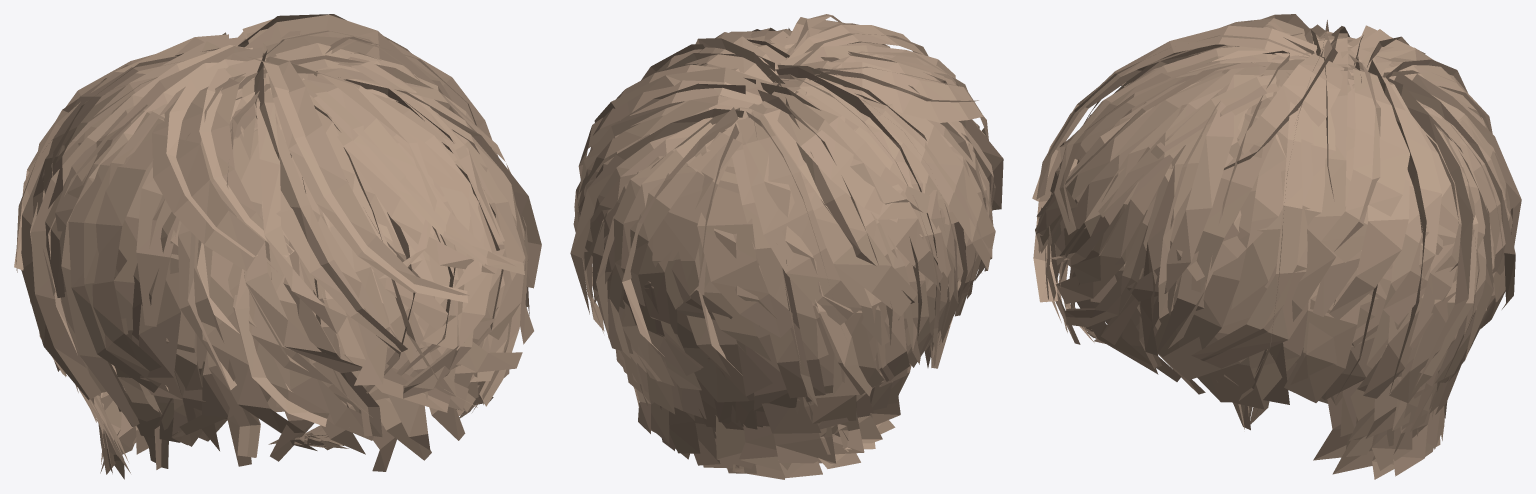
File: male_hair_13_lod1.glb
3 views of the same model, side by side, from view 1: azimuth 30°, elevation 25°; view 2: azimuth 150°, elevation 25°; view 3: azimuth 270°, elevation 25° (orthographic). The views are drawn at different scales.
Visible parts, largest first — view 1: hair_13; view 2: hair_13; view 3: hair_13.
Part boxes in pixels (left/top/right/bottom): hair_13: left=14, top=14, right=541, bottom=479; hair_13: left=570, top=14, right=1003, bottom=479; hair_13: left=1032, top=14, right=1521, bottom=479.
Size of the model in its own units: 0.194 by 0.1957 by 0.2192.
